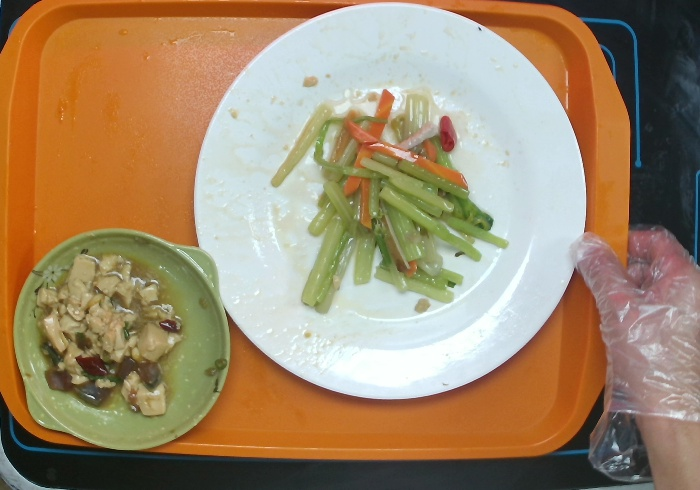NLDX-Da_Yuan_Pan: (193, 3, 586, 399)
NLDX-Lv_Hua_Shuang_Er_Die: (13, 229, 230, 451)
